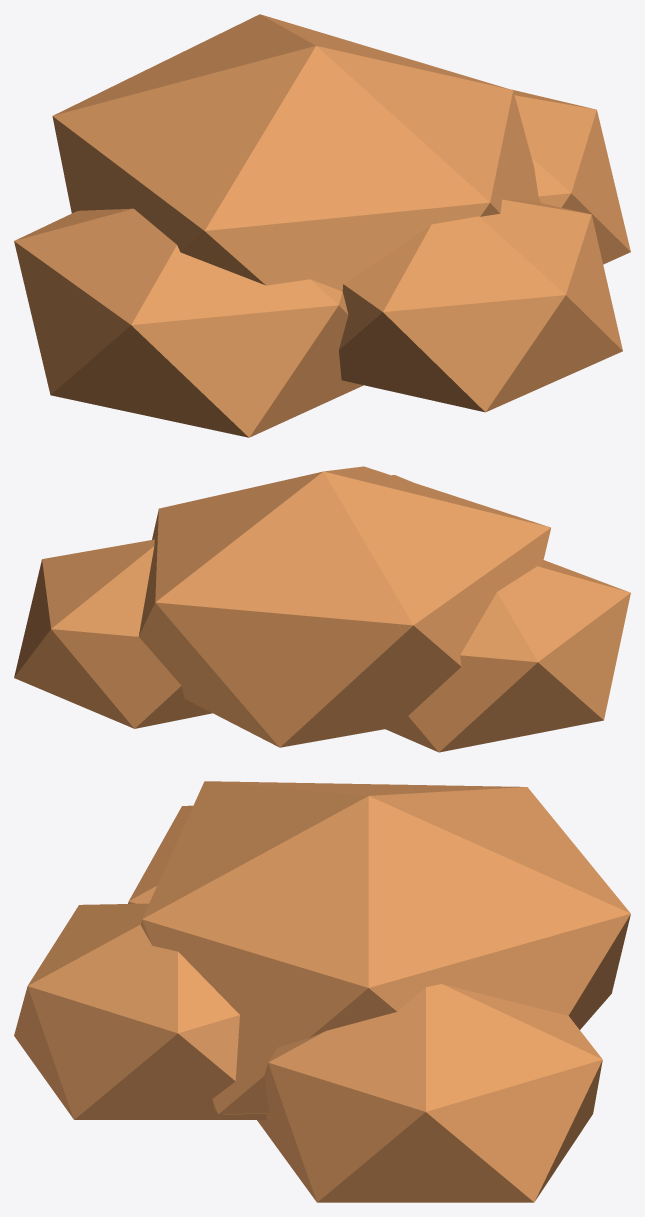
File: BUSH-08.glb
3 views of the same model, one above another, from view 1: azimuth 30°, elevation 25°; view 2: azimuth 150°, elevation 25°; view 3: azimuth 270°, elevation 25° (orthographic). The views are drawn at different scales.
Visible parts, largest first — view 1: BUSH-08; view 2: BUSH-08; view 3: BUSH-08.
Boxes of the visible parts, box(x1,y1,x2,y2) form: BUSH-08: box(14, 14, 630, 437); BUSH-08: box(14, 466, 630, 752); BUSH-08: box(14, 781, 630, 1202).
Bounding box in the file's own units: 1.5 × 0.7478 × 1.29.
